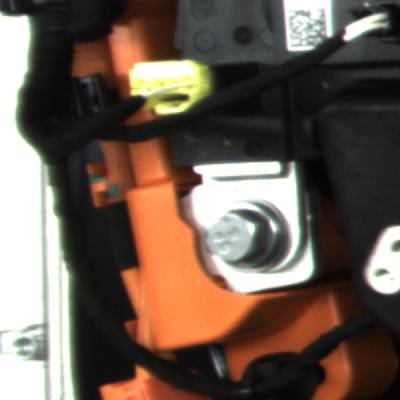nut_b: (198, 192, 285, 277)
